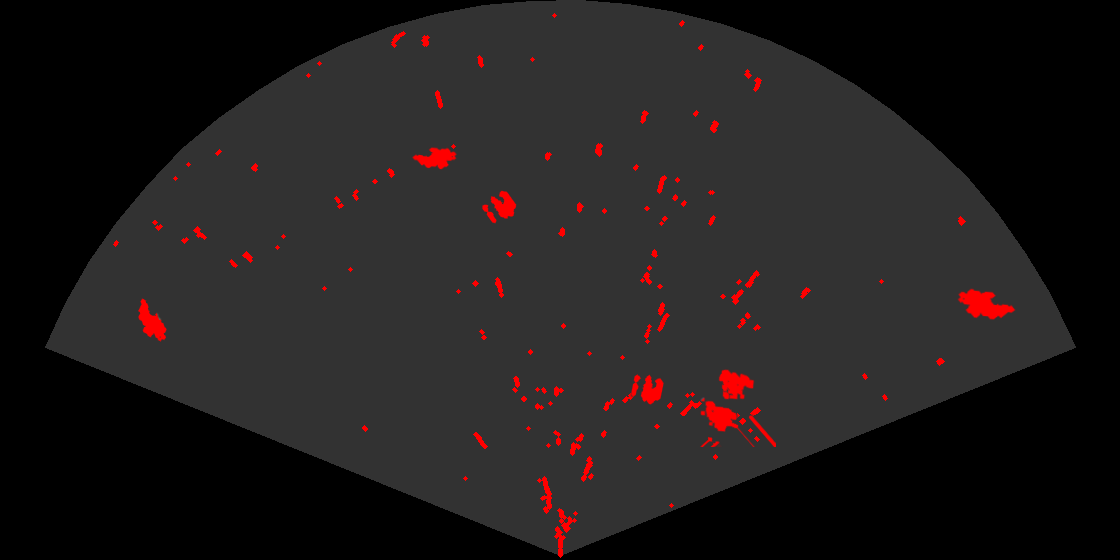AUV: (956, 287, 1017, 321), (137, 297, 168, 343), (410, 146, 459, 171)
ball: (481, 189, 518, 225), (630, 373, 665, 406)
cage: (699, 368, 776, 447)
